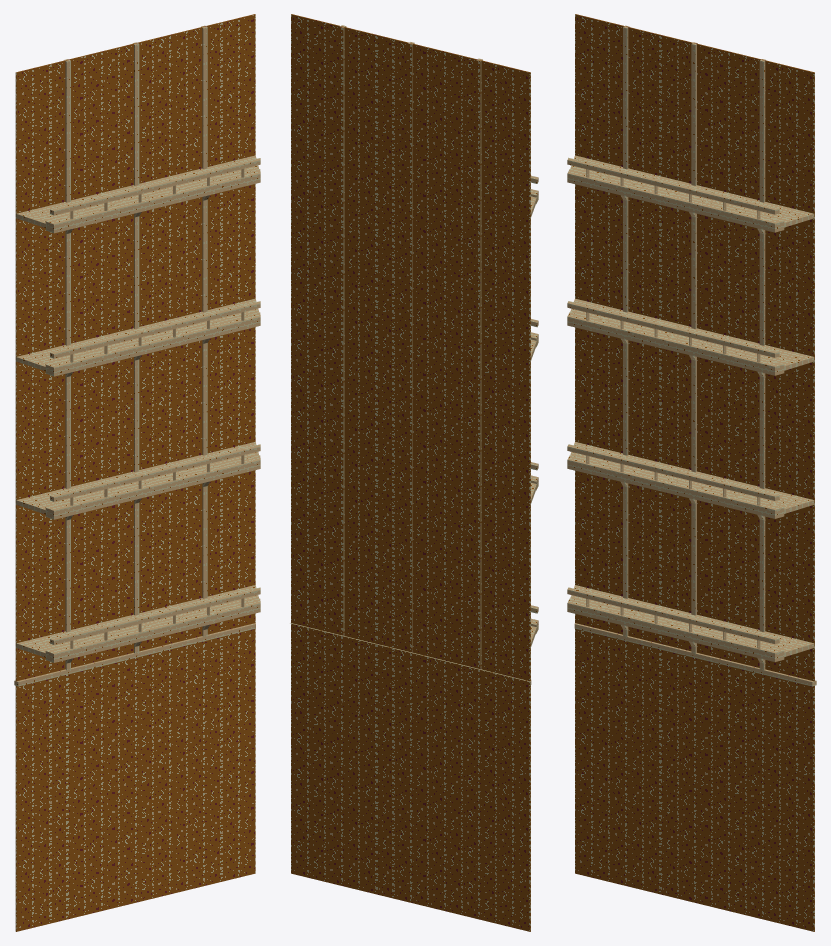
Rendered from SM_Wall.glb.
The picture shows the model from 3 angles, left to right: view 1: azimuth 30°, elevation 25°; view 2: azimuth 150°, elevation 25°; view 3: azimuth 330°, elevation 25°; orthographic projection.
Parts seen in each view (by area): view 1: SM_Wall; view 2: SM_Wall; view 3: SM_Wall.
Part boxes in pixels (<box>): SM_Wall: <box>14,14,260,931</box>; SM_Wall: <box>290,14,538,931</box>; SM_Wall: <box>567,14,816,931</box>.
Bounding box in the file's own units: 14.1 × 48 × 2.42.
Materials: 2 (2 with a texture image).
